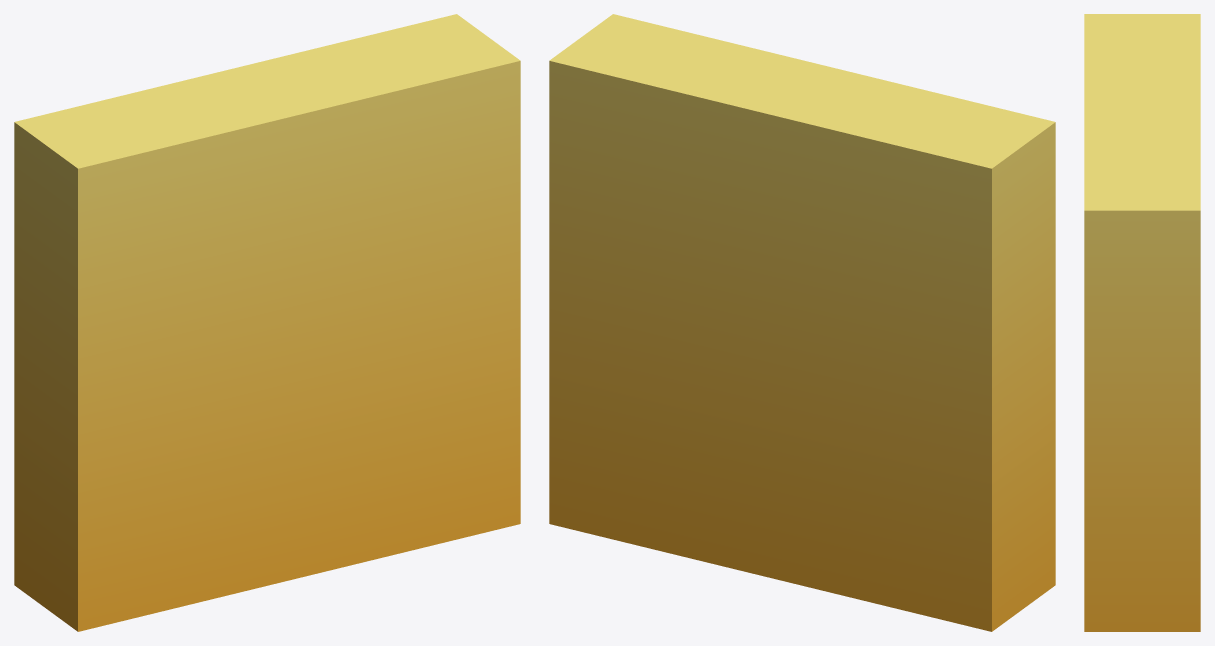
Rendered from primitive_wall.glb.
The picture shows the model from 3 angles, left to right: view 1: azimuth 30°, elevation 25°; view 2: azimuth 150°, elevation 25°; view 3: azimuth 270°, elevation 25°; orthographic projection. The views are drawn at different scales.
Visible parts, largest first — view 1: Primitive_Wall; view 2: Primitive_Wall; view 3: Primitive_Wall.
Boxes of the visible parts, bbox=[...] form: Primitive_Wall: bbox=[14, 14, 520, 631]; Primitive_Wall: bbox=[549, 14, 1055, 631]; Primitive_Wall: bbox=[1084, 14, 1200, 631].
Bounding box in the file's own units: 4 × 4 × 1.
1 material, 1 textured.
